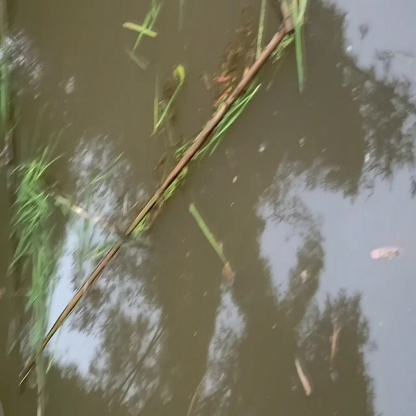branch: (41, 20, 289, 364)
